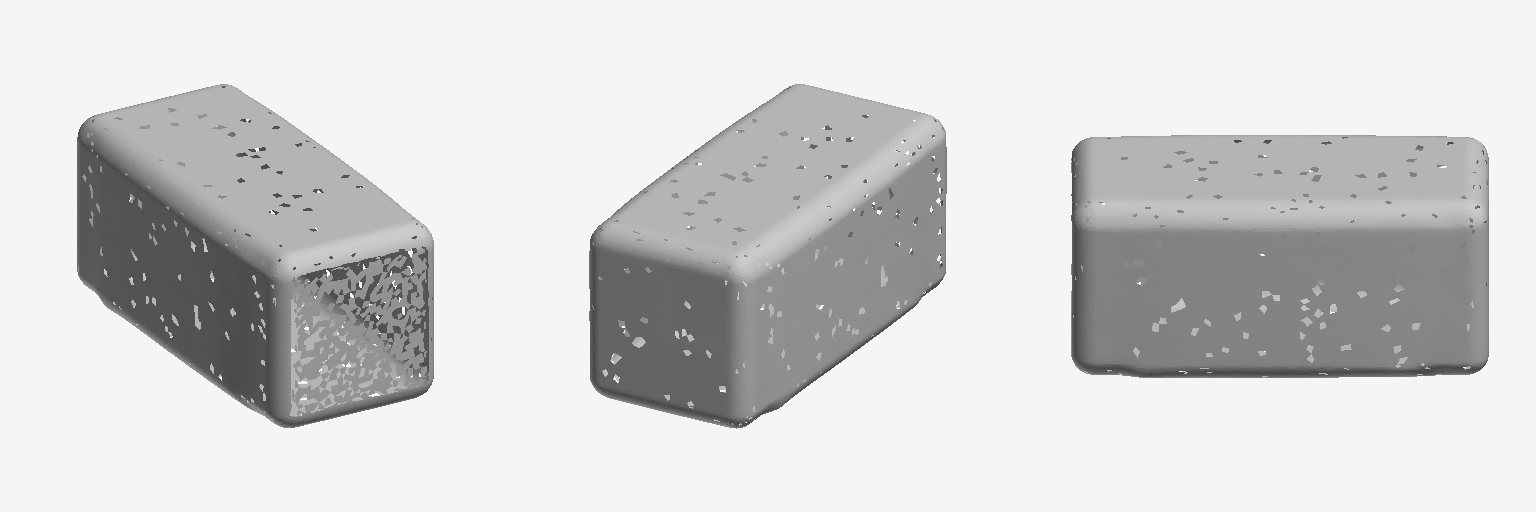
The model's file is obj_01998fc6-6804-7cff-91f7-583ca684ad70_d98f062b16bf.obj.
3 views of the same model, side by side, from view 1: azimuth 30°, elevation 25°; view 2: azimuth 150°, elevation 25°; view 3: azimuth 270°, elevation 25° (orthographic).
Parts seen in each view (by area): view 1: model; view 2: model; view 3: model.
Boxes of the visible parts, <box> form: model: <box>77,84,433,427</box>; model: <box>589,84,946,428</box>; model: <box>1071,135,1488,377</box>.
Size of the model in its own units: 0.9659 by 0.93 by 2.